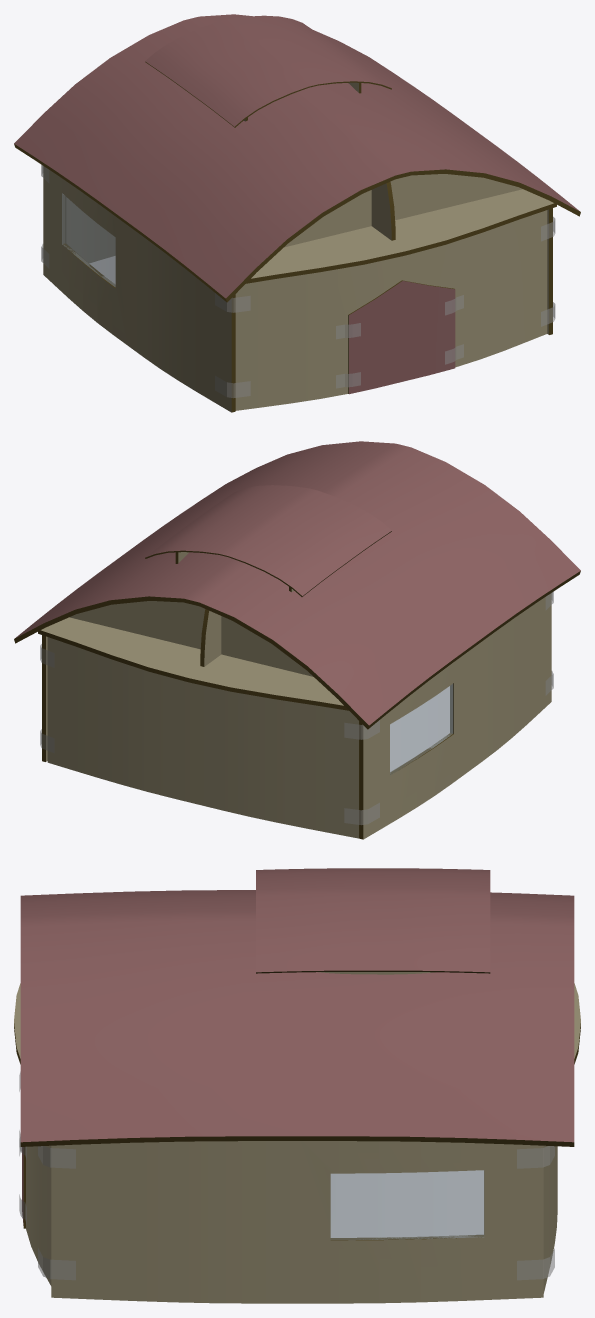
The model's file is Barn.fbx.
The picture shows the model from 3 angles, top to bottom: view 1: azimuth 30°, elevation 25°; view 2: azimuth 150°, elevation 25°; view 3: azimuth 270°, elevation 25°; orthographic projection. The views are drawn at different scales.
Parts seen in each view (by area): view 1: Barn, DoorL, DoorR; view 2: Barn; view 3: Barn.
Part boxes in pixels (x1,y1,x2,y2): Barn: (14,14,580,412); DoorL: (348,280,402,394); DoorR: (402,280,455,381); Barn: (14,441,580,839); Barn: (14,868,580,1303).
Size of the model in its own units: 871 by 543 by 921.
